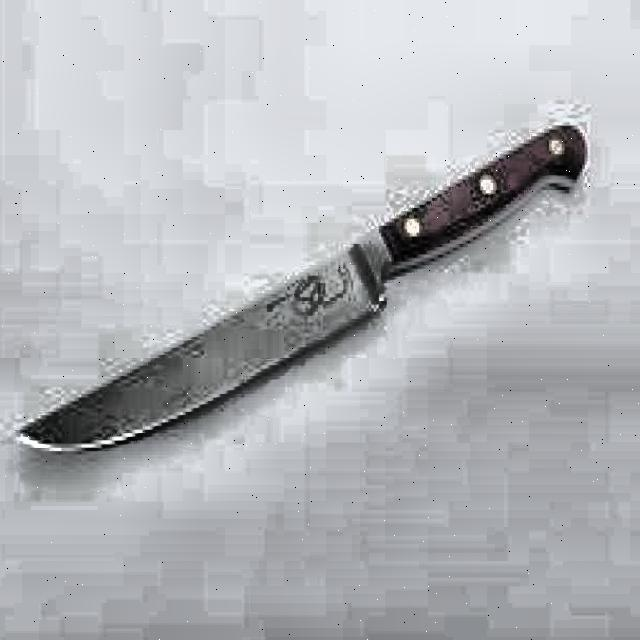knife: (18, 120, 591, 462)
